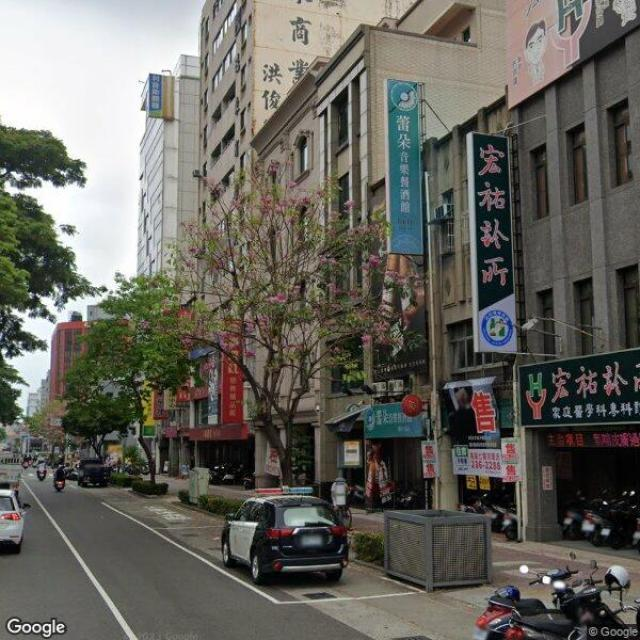Legalparking: (224, 483, 350, 598), (471, 554, 640, 638), (567, 492, 640, 541)
illegalparking: (79, 458, 127, 492)
